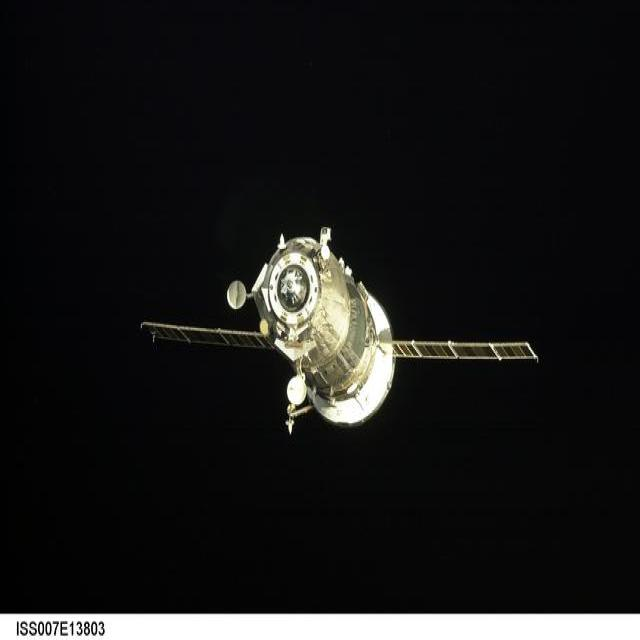medium_debris: (141, 227, 538, 431)
